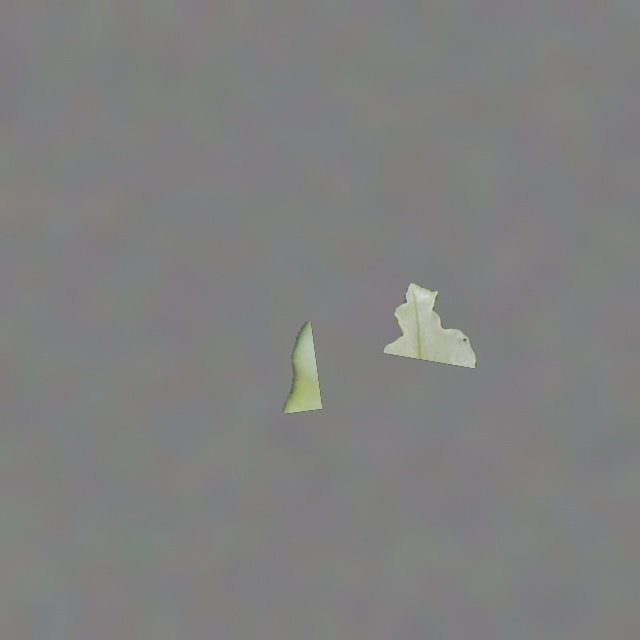petunia: (383, 283, 475, 368), (283, 322, 321, 413)
